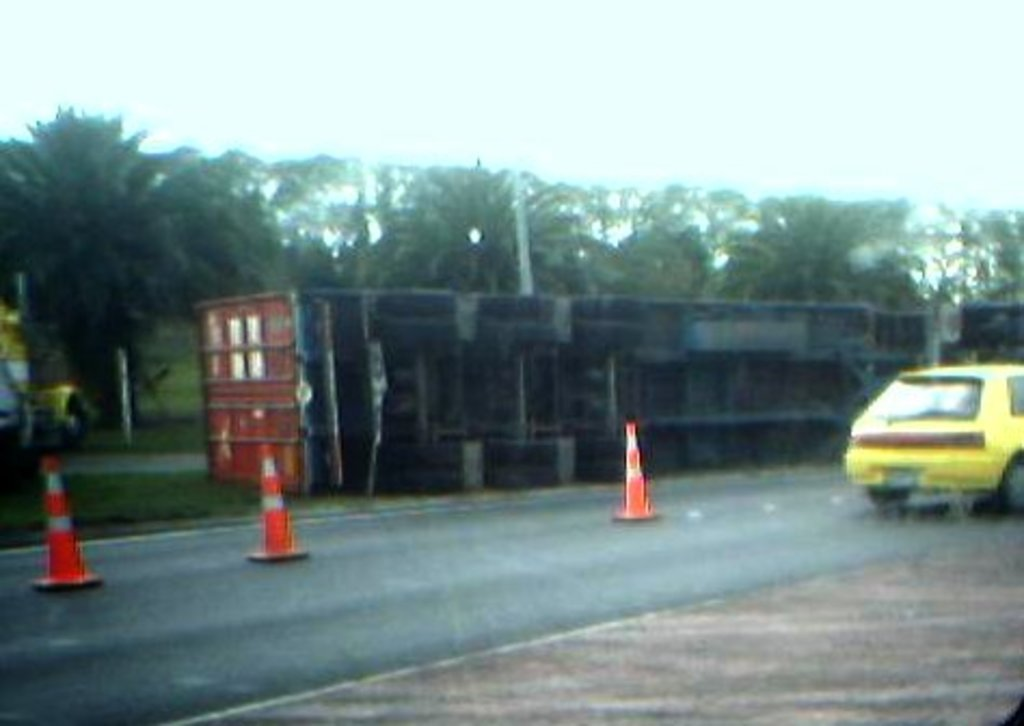Car: (833, 345, 1015, 525)
